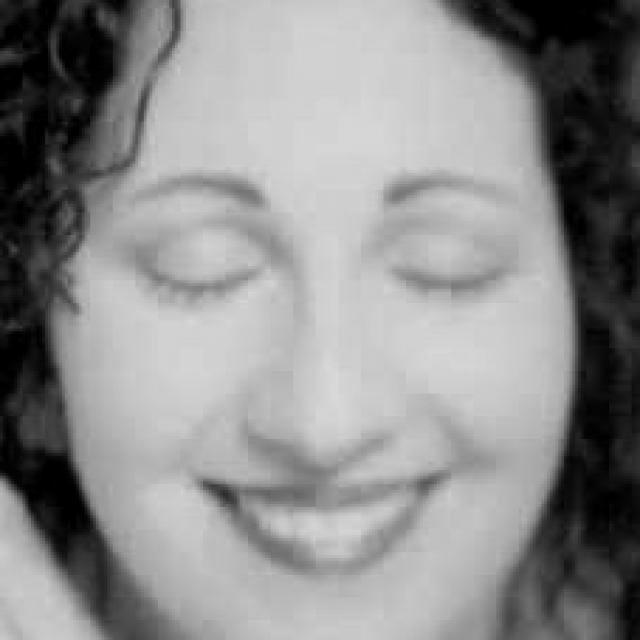real: (44, 46, 586, 626), (132, 181, 526, 308)
